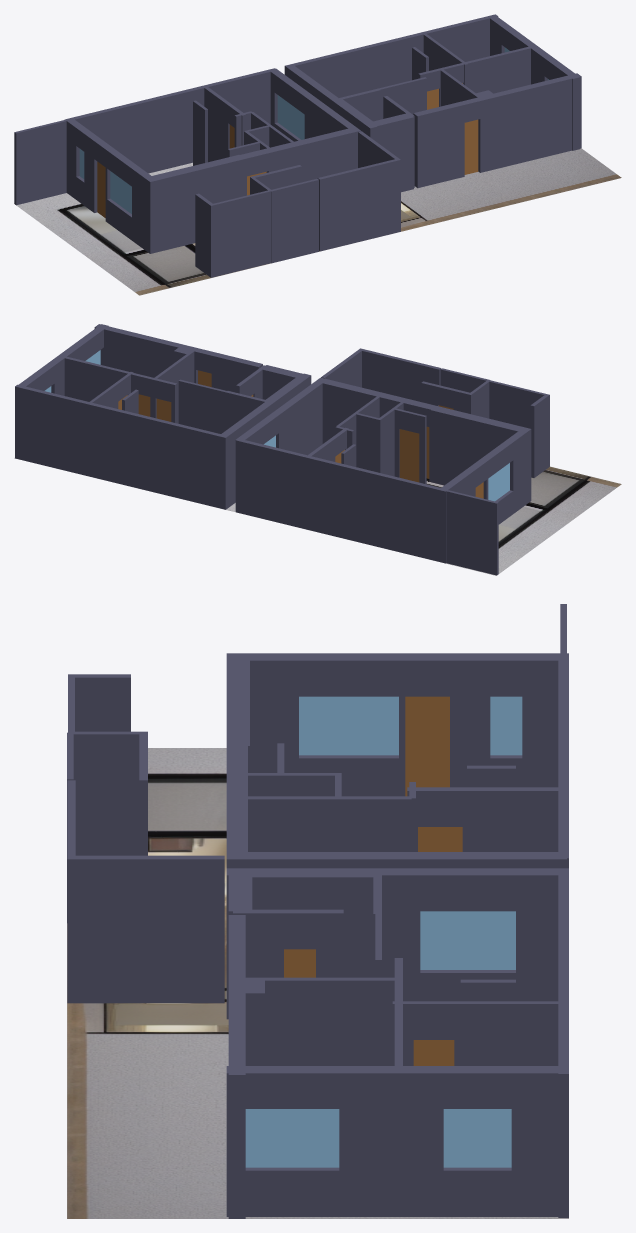
The picture shows the model from 3 angles, top to bottom: view 1: azimuth 30°, elevation 25°; view 2: azimuth 150°, elevation 25°; view 3: azimuth 270°, elevation 25°; orthographic projection. The views are drawn at different scales.
Parts seen in each view (by area): view 1: wall, FloorPlan, Door, Window; view 2: wall, FloorPlan, Door, Window; view 3: wall, FloorPlan, Window, Door.
Part boxes in pixels (box(x1,y1,x2,y2)): wall: box(14, 14, 581, 277); FloorPlan: box(16, 148, 621, 295); Door: box(97, 83, 478, 217); Window: box(79, 47, 548, 213); wall: box(15, 324, 549, 575); FloorPlan: box(14, 458, 621, 575); Door: box(118, 370, 483, 498); Window: box(45, 350, 509, 501); wall: box(67, 604, 568, 1218); FloorPlan: box(67, 748, 568, 1218); Window: box(245, 696, 522, 1167); Door: box(284, 696, 462, 1065).
Size of the model in its own units: 19.65 by 2.8 by 8.85.
Materials: 4 (1 with a texture image).
